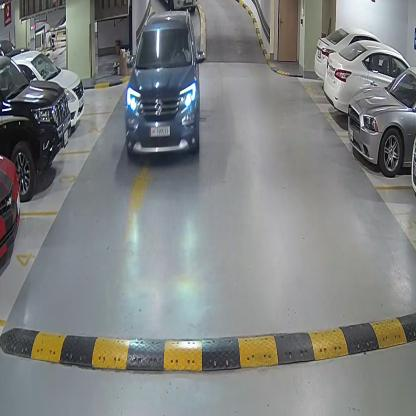np: (149, 125, 170, 138)
